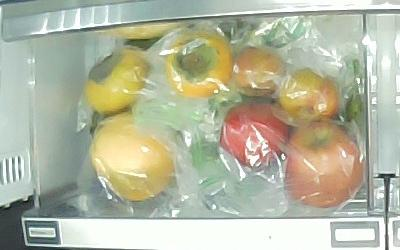apple_vinyl: (283, 123, 364, 209), (220, 101, 289, 167)
grapefruit_vinyl: (90, 113, 175, 200)
persimmon_vinyl: (166, 31, 234, 97), (84, 50, 150, 113)
prune_vinyl: (278, 68, 339, 122), (234, 46, 286, 97)
